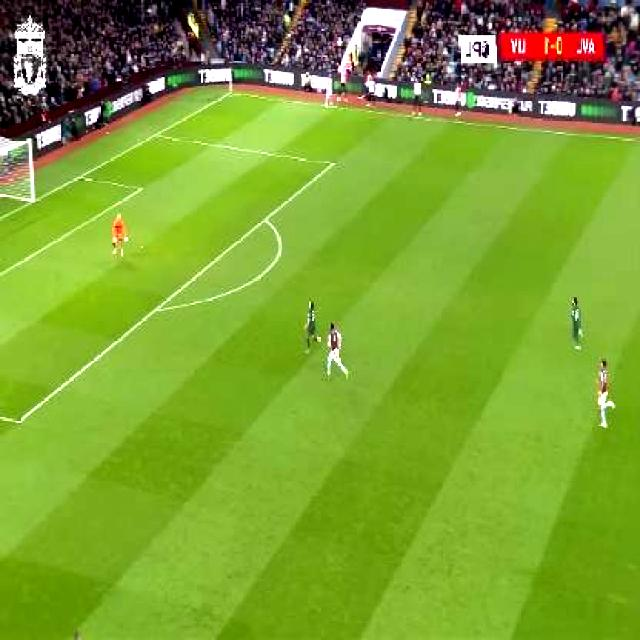bigarea_bottom_inner: (11, 408, 29, 432)
bigarea_top_inner: (328, 152, 342, 171)
bigarea_top_outter: (151, 126, 163, 142)
bottom_arc_area_intersection: (149, 298, 165, 317)
corner: (224, 86, 242, 99)
smallarea_top_inner: (136, 180, 150, 195)
smallarea_top_outter: (74, 168, 88, 185)
top_arc_area_intersection: (258, 209, 274, 226)
